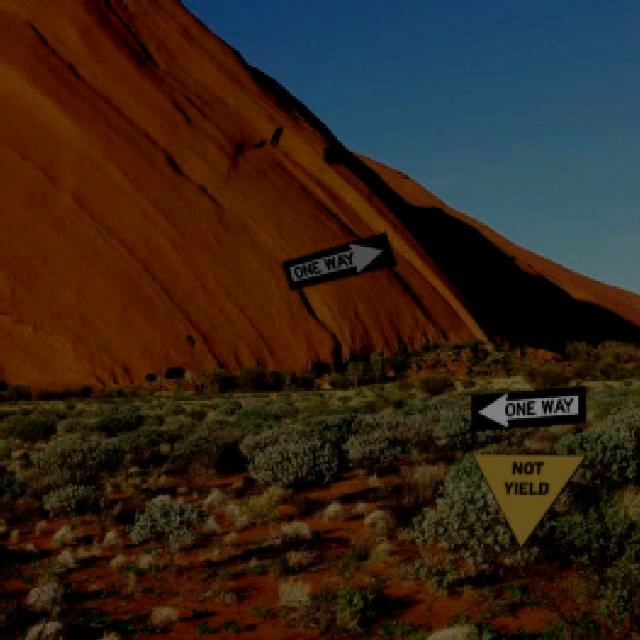NOT_YIELD: (470, 452, 586, 548)
ONE_WAY_ left: (469, 384, 585, 430)
ONE_WAY_ right: (280, 230, 396, 289)
